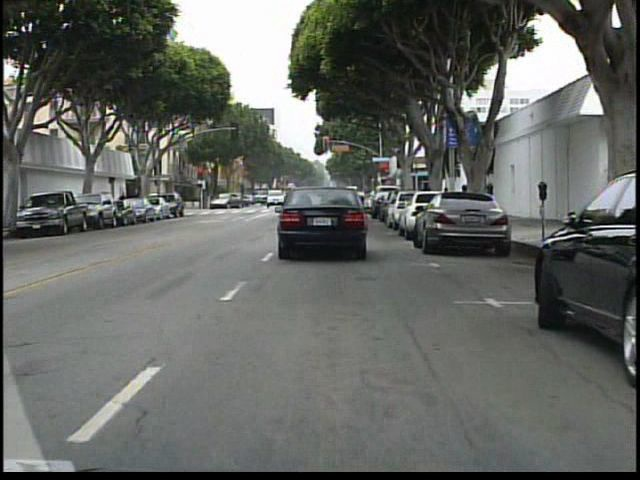person: (116, 190, 131, 218)
